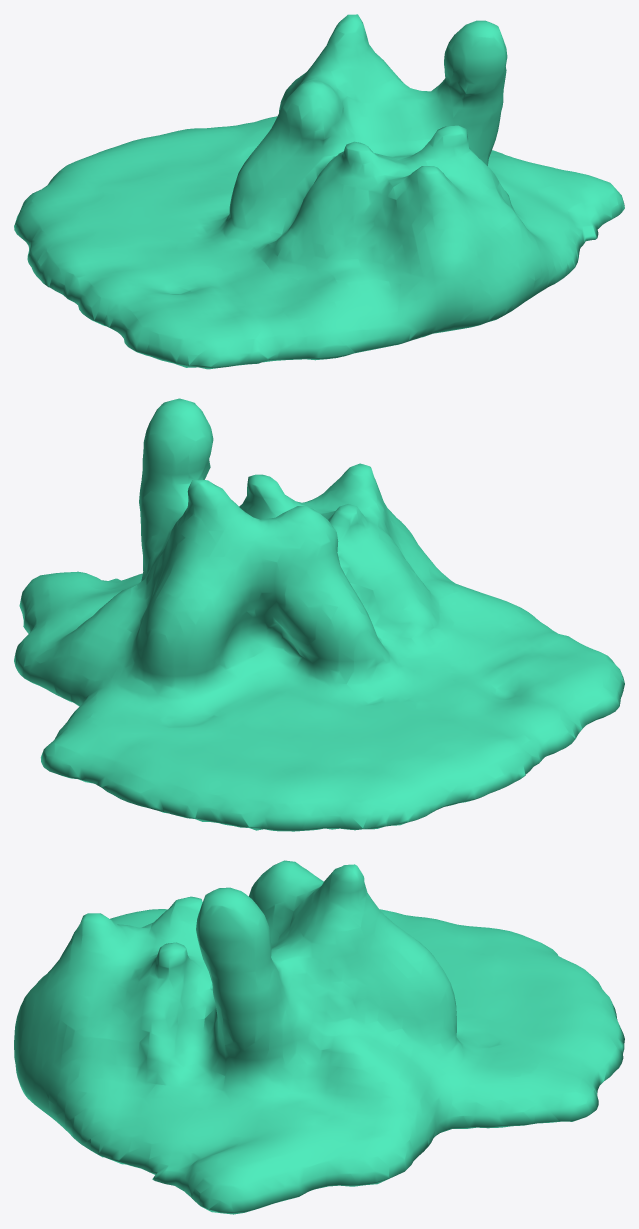
3 renders of one model, top to bottom at view 1: azimuth 30°, elevation 25°; view 2: azimuth 150°, elevation 25°; view 3: azimuth 270°, elevation 25°, orthographic. The views are drawn at different scales.
Visible parts, largest first — view 1: Liquid_Domain; view 2: Liquid_Domain; view 3: Liquid_Domain.
Part boxes in pixels (x1=…): Liquid_Domain: x1=14, y1=14, x2=624, y2=369; Liquid_Domain: x1=14, y1=398, x2=624, y2=831; Liquid_Domain: x1=14, y1=860, x2=624, y2=1214.
Size of the model in its own units: 8.36 by 3.41 by 7.47.
